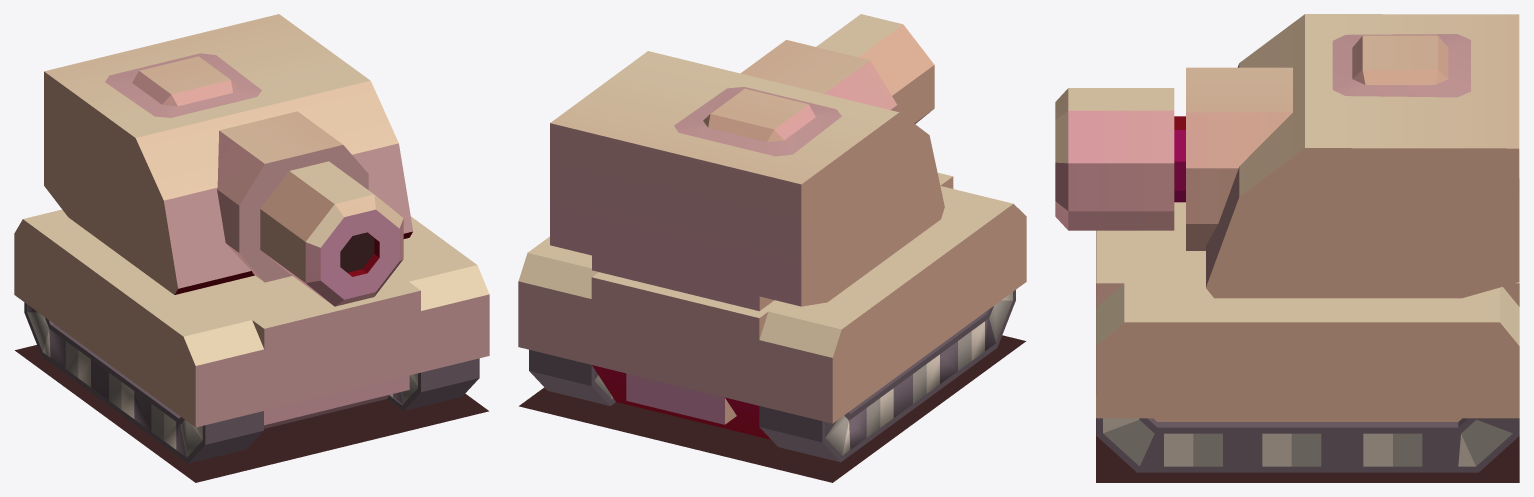
Rendered from TankMesh.WhiteNova.glb.
3 renders of one model, left to right at view 1: azimuth 30°, elevation 25°; view 2: azimuth 150°, elevation 25°; view 3: azimuth 270°, elevation 25°, orthographic. The views are drawn at different scales.
Visible parts, largest first — view 1: TankMesh.WhiteNova; view 2: TankMesh.WhiteNova; view 3: TankMesh.WhiteNova.
Boxes of the visible parts, left/top/right/bottom form: TankMesh.WhiteNova: left=14, top=14, right=489, bottom=482; TankMesh.WhiteNova: left=518, top=14, right=1026, bottom=482; TankMesh.WhiteNova: left=1055, top=14, right=1519, bottom=482.
Size of the model in its own units: 1.5 by 1.38 by 1.76.
1 material, 1 textured.
